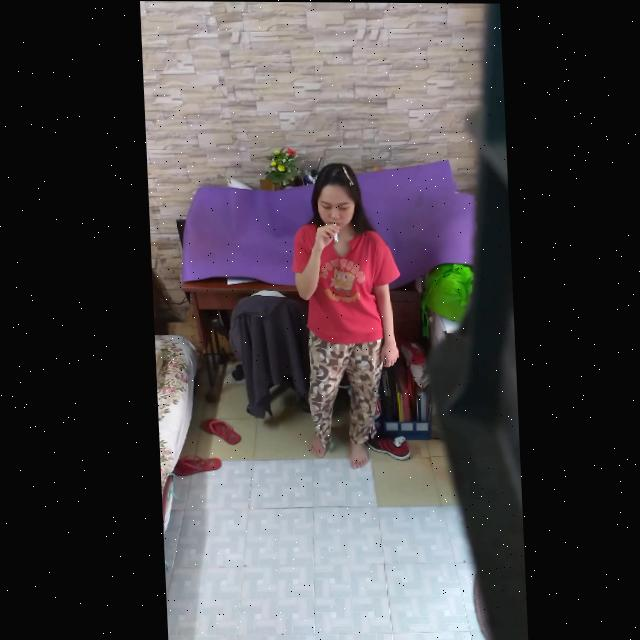cigarette: (331, 222, 337, 241)
